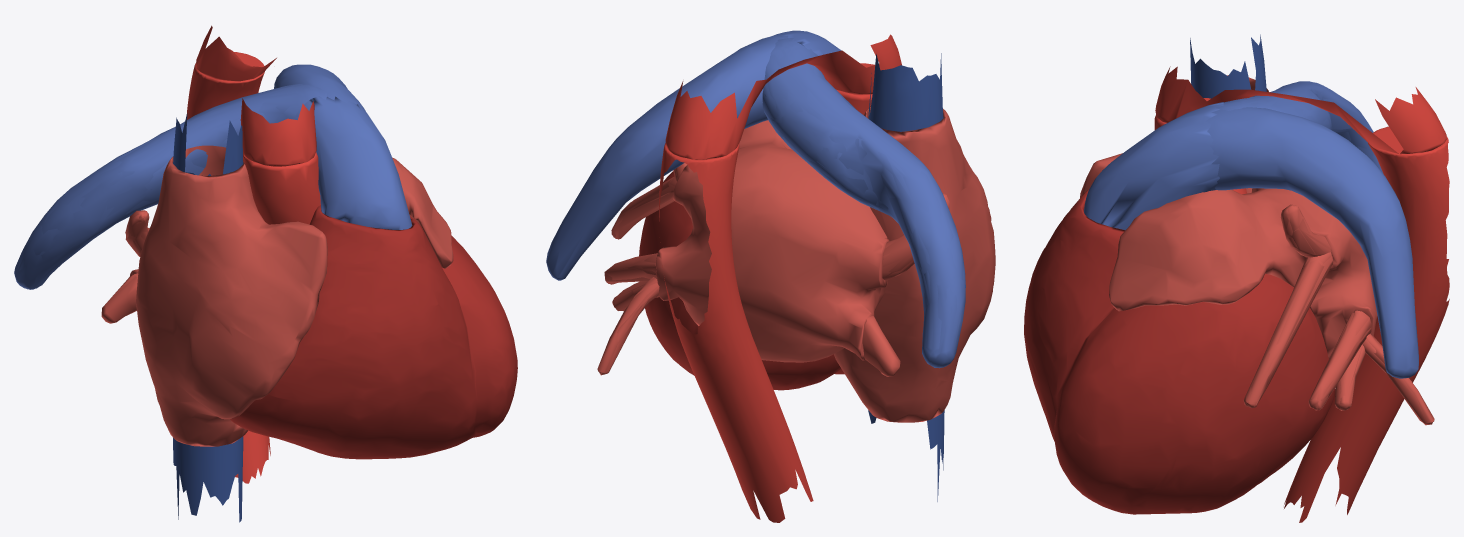
Rendered from heart.glb.
3 renders of one model, left to right at view 1: azimuth 30°, elevation 25°; view 2: azimuth 150°, elevation 25°; view 3: azimuth 270°, elevation 25°, orthographic. The views are drawn at different scales.
Visible parts, largest first — view 1: lv, atria, pulmonary, aorta, venacava, pulmveins; view 2: atria, pulmonary, aorta, pulmveins, lv, venacava; view 3: lv, pulmonary, atria, aorta, pulmveins, venacava.
Part boxes in pixels (x1,y1,x2,y2): lv: [230, 205, 517, 459]; atria: [130, 145, 453, 446]; pulmonary: [14, 64, 412, 289]; aorta: [187, 25, 320, 483]; venacava: [173, 113, 243, 522]; pulmveins: [101, 210, 149, 323]; atria: [655, 106, 995, 422]; pulmonary: [546, 30, 965, 368]; aorta: [659, 34, 901, 522]; pulmveins: [597, 163, 949, 376]; lv: [639, 171, 844, 390]; venacava: [868, 53, 944, 501]; lv: [1024, 189, 1334, 514]; pulmonary: [1084, 81, 1418, 378]; atria: [1080, 75, 1377, 358]; aorta: [1154, 66, 1449, 522]; pulmveins: [1243, 204, 1434, 425]; venacava: [1190, 34, 1266, 98].
Bounding box in the file's own units: 2.49 × 2.6 × 2.25.
